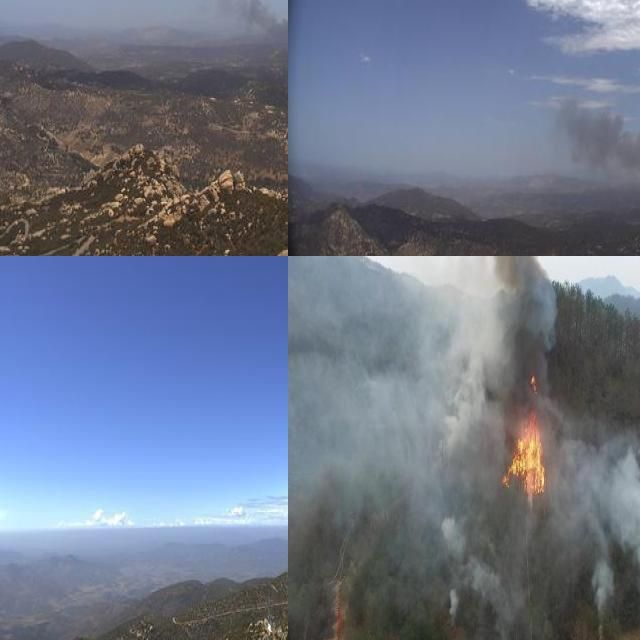fire: (480, 347, 576, 517)
smoke: (288, 256, 640, 640), (545, 91, 640, 205), (206, 0, 288, 79)
